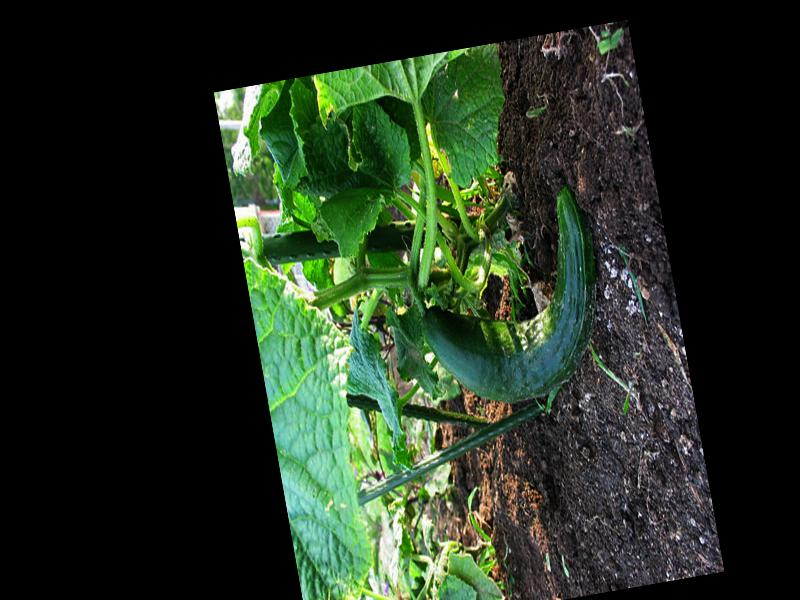Cucumber: (401, 181, 618, 417)
